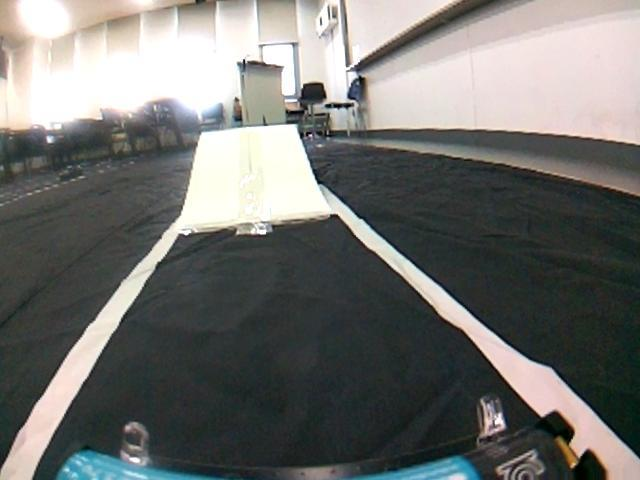hill_up: (174, 119, 340, 236)
straight: (0, 236, 640, 478)
